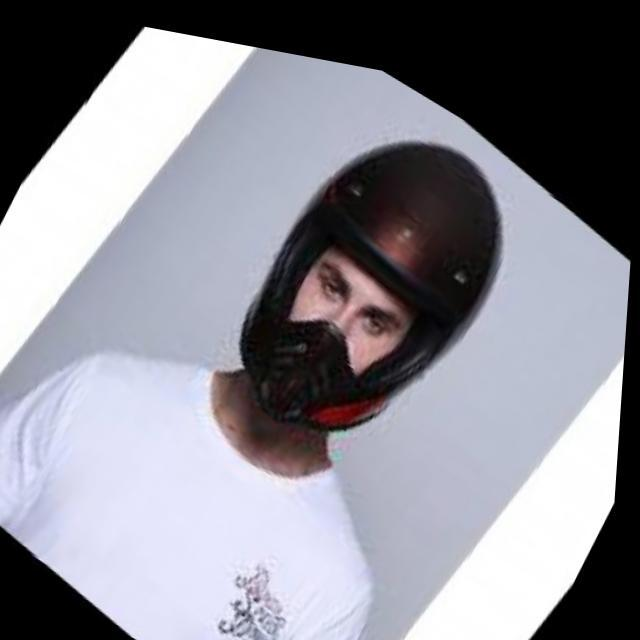Helmet: (233, 136, 507, 437)
